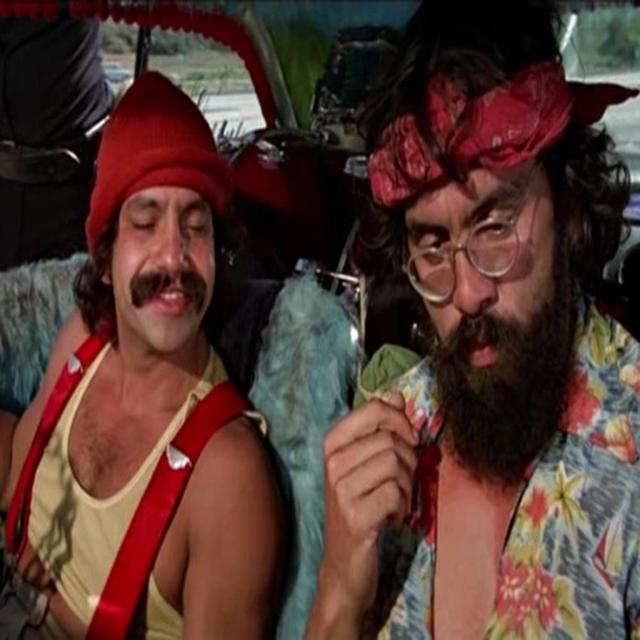smoking: (341, 17, 608, 491)
